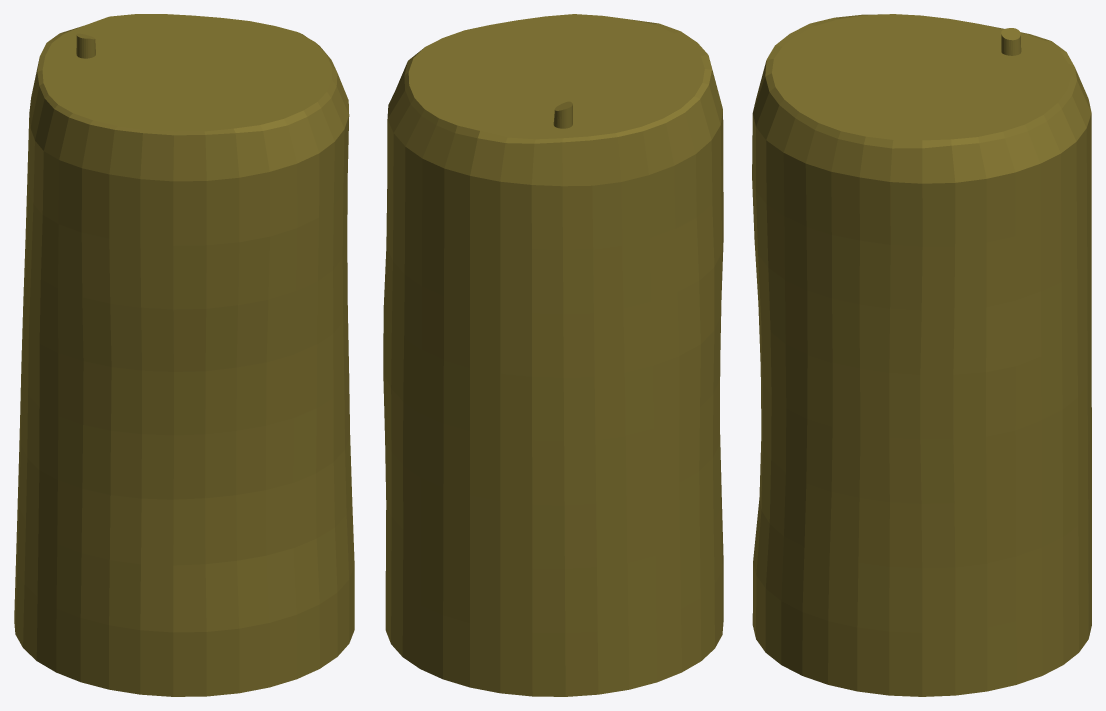
File: Barrel.fbx
The picture shows the model from 3 angles, left to right: view 1: azimuth 30°, elevation 25°; view 2: azimuth 150°, elevation 25°; view 3: azimuth 270°, elevation 25°; orthographic projection.
Parts seen in each view (by area): view 1: Barrel; view 2: Barrel; view 3: Barrel.
Part boxes in pixels (x1,y1,x2,y2): Barrel: (14, 14, 354, 696); Barrel: (383, 14, 723, 696); Barrel: (752, 14, 1091, 696).
Size of the model in its own units: 120 by 221 by 120.
